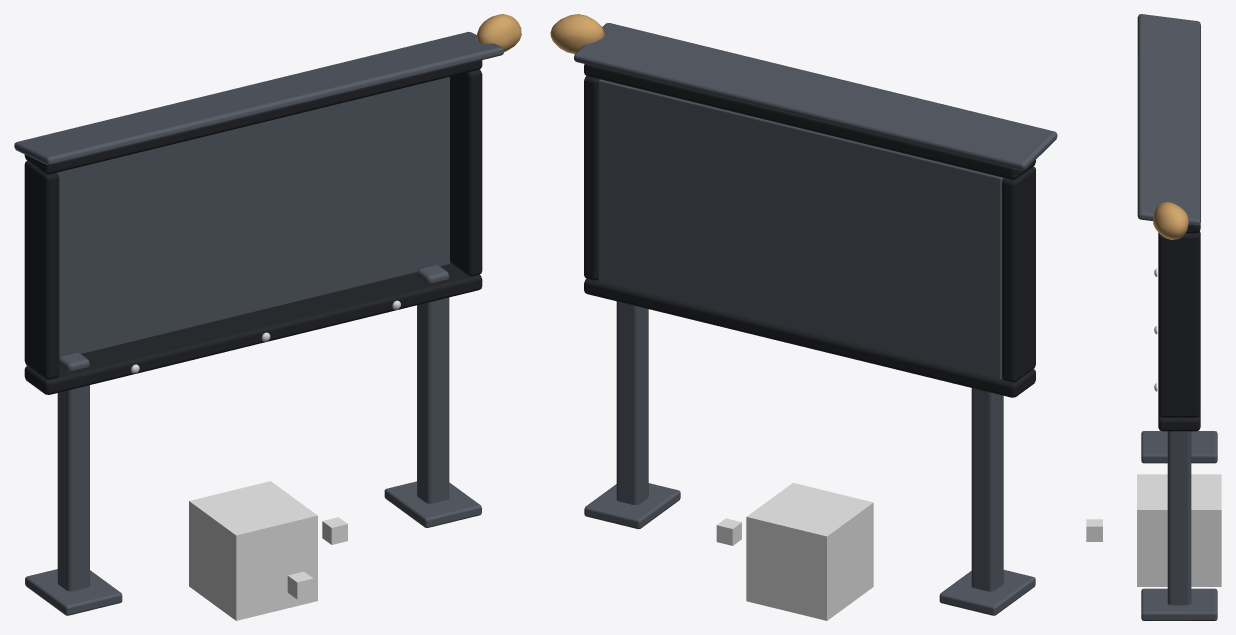
The model's file is LedBoard.fbx.
3 views of the same model, side by side, from view 1: azimuth 30°, elevation 25°; view 2: azimuth 150°, elevation 25°; view 3: azimuth 270°, elevation 25° (orthographic). The views are drawn at different scales.
Visible parts, largest first — view 1: Body__MetalDark, Body__Black, Origin__Pivot, Body__Potato; view 2: Body__MetalDark, Body__Black, Origin__Pivot, Body__Potato; view 3: Body__MetalDark, Body__Black, Origin__Pivot, Body__Potato, Origin__AxisZ.
Boxes of the visible parts, x1,y1,x2,y2 form: Body__MetalDark: [14, 31, 503, 615]; Body__Black: [24, 60, 482, 394]; Origin__Pivot: [189, 481, 317, 620]; Body__Potato: [476, 14, 521, 51]; Body__MetalDark: [574, 23, 1057, 615]; Body__Black: [584, 64, 1035, 397]; Origin__Pivot: [746, 483, 873, 620]; Body__Potato: [550, 14, 604, 53]; Body__MetalDark: [1137, 14, 1217, 620]; Body__Black: [1158, 224, 1200, 431]; Origin__Pivot: [1137, 474, 1221, 586]; Body__Potato: [1153, 202, 1188, 239]; Origin__AxisZ: [1086, 519, 1102, 541].
Bounding box in the file's own units: 6.02 × 6.12 × 1.6.
